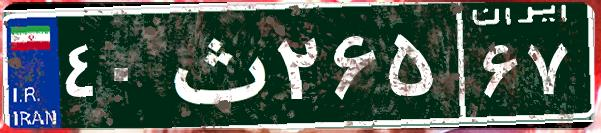0: (110, 28, 158, 105)
2: (273, 28, 330, 110)
4: (57, 26, 110, 107)
5: (385, 28, 445, 110)
6: (330, 28, 385, 110), (475, 38, 525, 113)
7: (525, 38, 570, 115)
ث: (158, 15, 273, 115)
